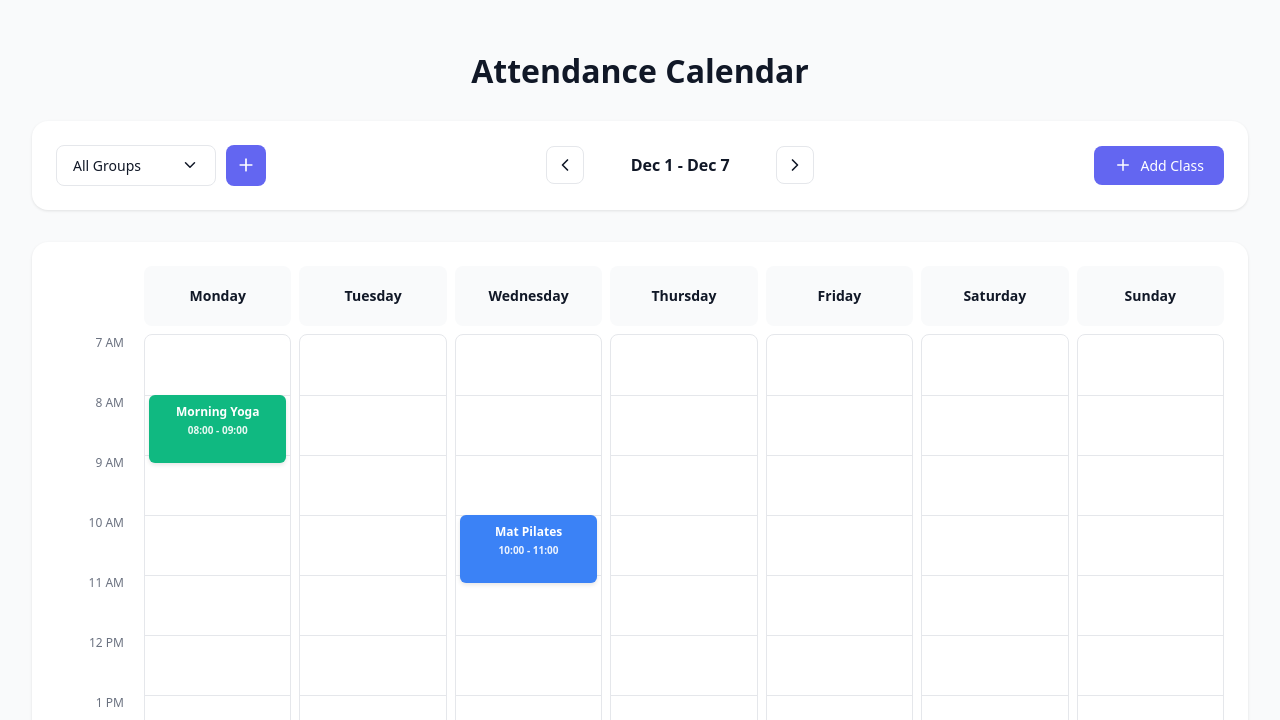
Test: AttendanceCalendar › filters classes when a specific group is selected
Click the button "All Groups". click: [136, 165]
box: top-left (56, 145), bottom-right (216, 186)
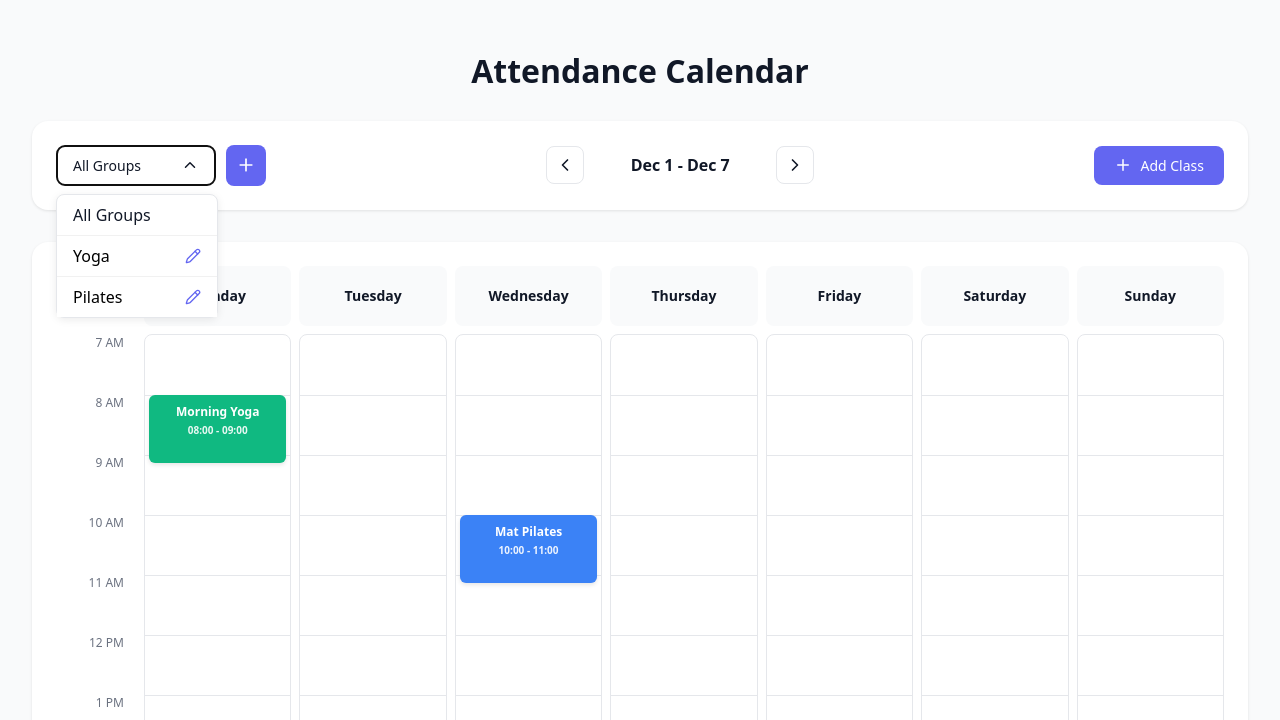
Click the text "Pilates". click: [98, 297]
box: top-left (73, 285), bottom-right (122, 309)
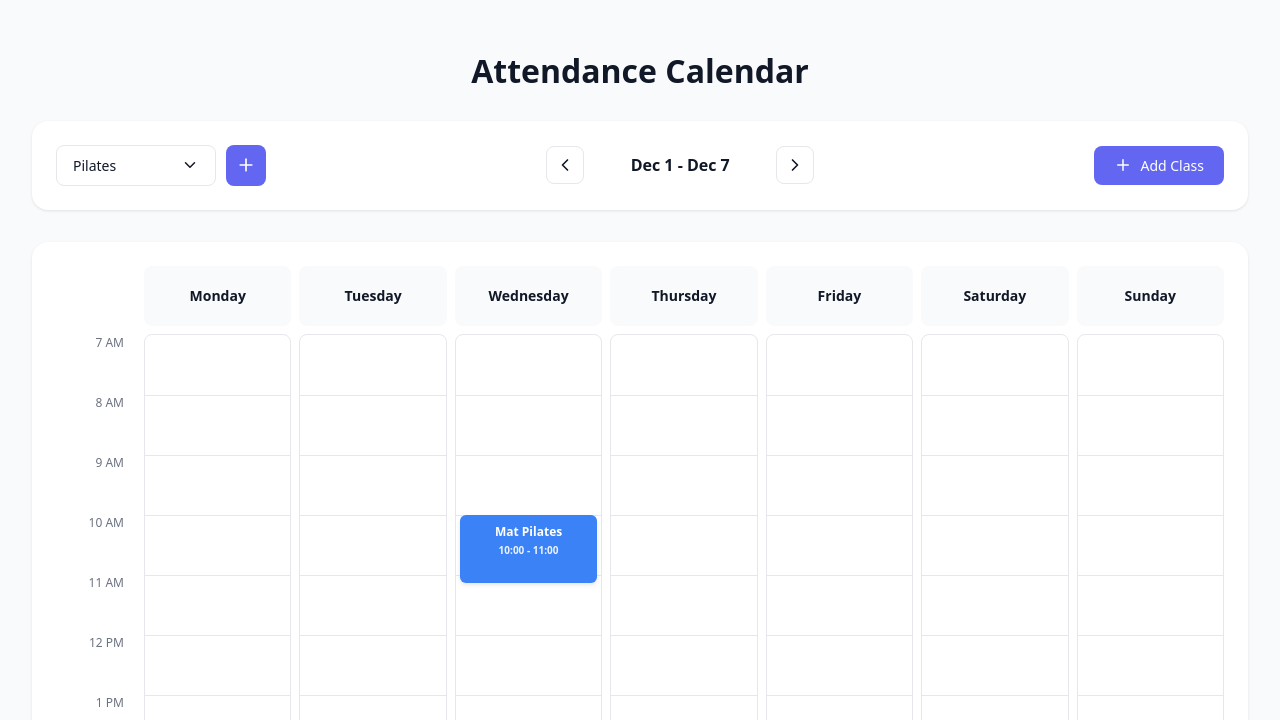
Expected: the text "Mat Pilates" is shown, top-left (495, 523), bottom-right (562, 540)
Result: the text "Morning Yoga" is gone
